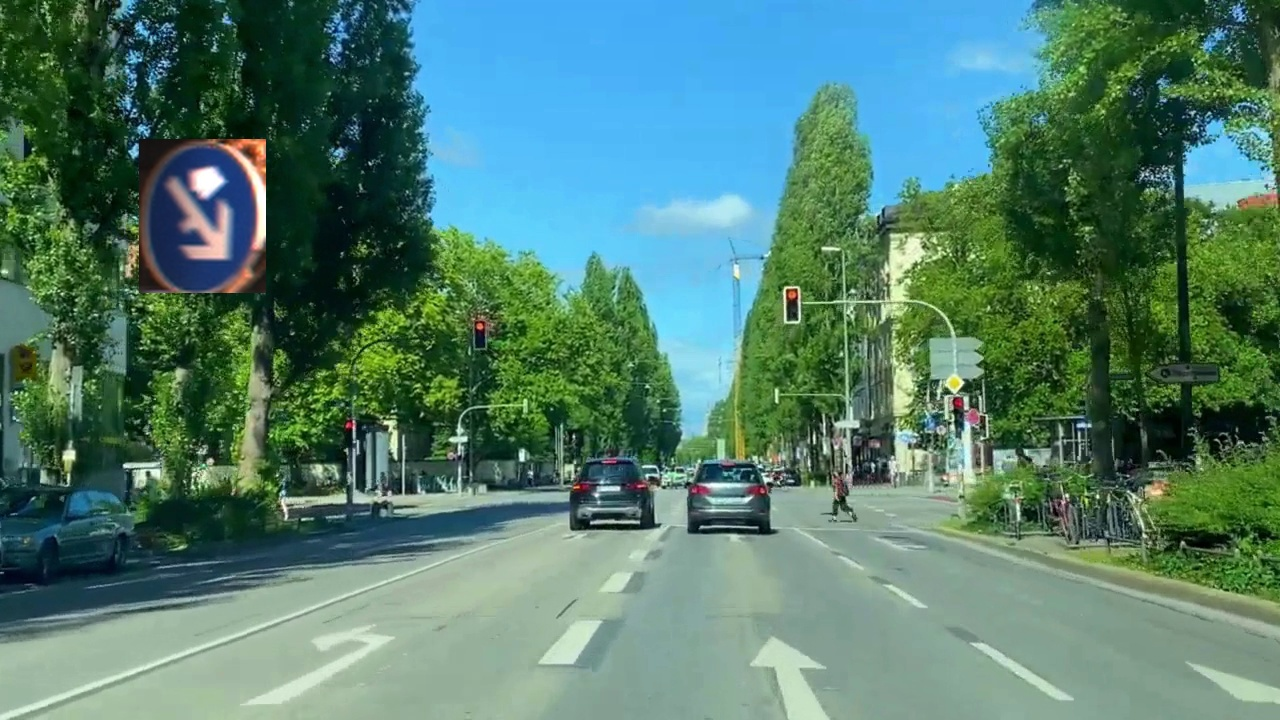Keep right: (139, 139, 266, 293)
